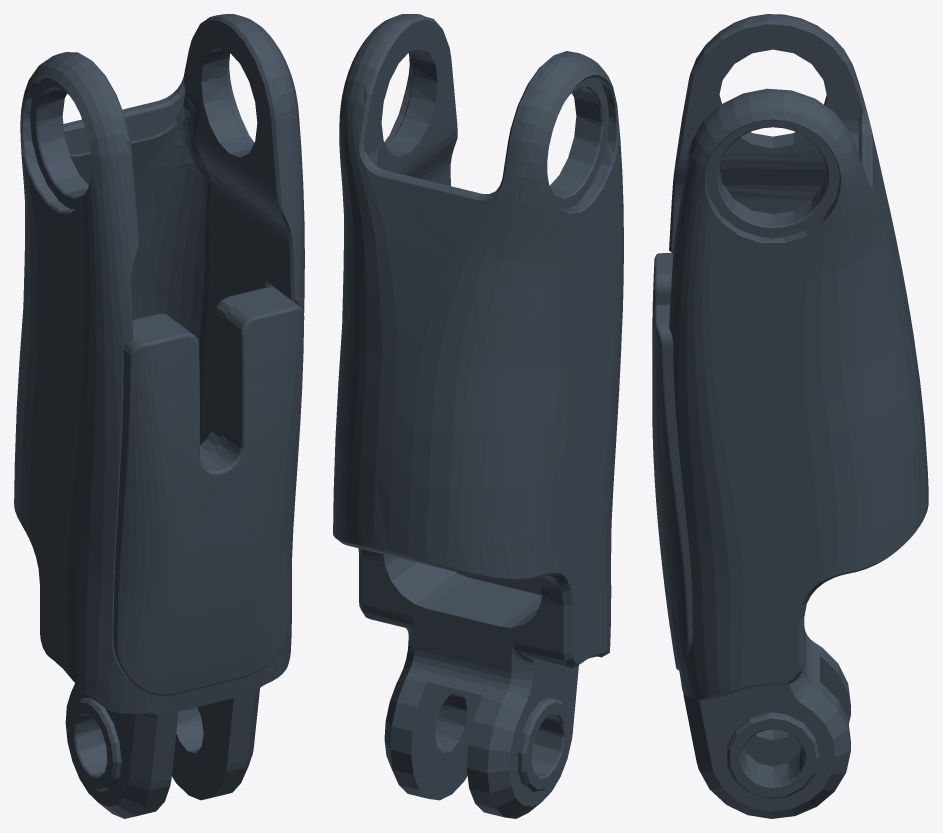
Rendered from mf_mcp_pitch_link.glb.
3 views of the same model, side by side, from view 1: azimuth 30°, elevation 25°; view 2: azimuth 150°, elevation 25°; view 3: azimuth 270°, elevation 25° (orthographic). The views are drawn at different scales.
Parts seen in each view (by area): view 1: mf_mcp_pitch; view 2: mf_mcp_pitch; view 3: mf_mcp_pitch.
Boxes of the visible parts, x1,y1,x2,y2 form: mf_mcp_pitch: (14,14,304,818); mf_mcp_pitch: (333,14,623,818); mf_mcp_pitch: (652,14,928,818).
Bounding box in the file's own units: 0.0154 × 0.0525 × 0.0177.
